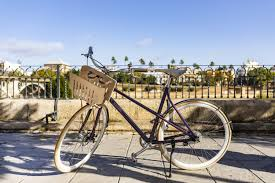bicycle: (49, 42, 238, 177)
